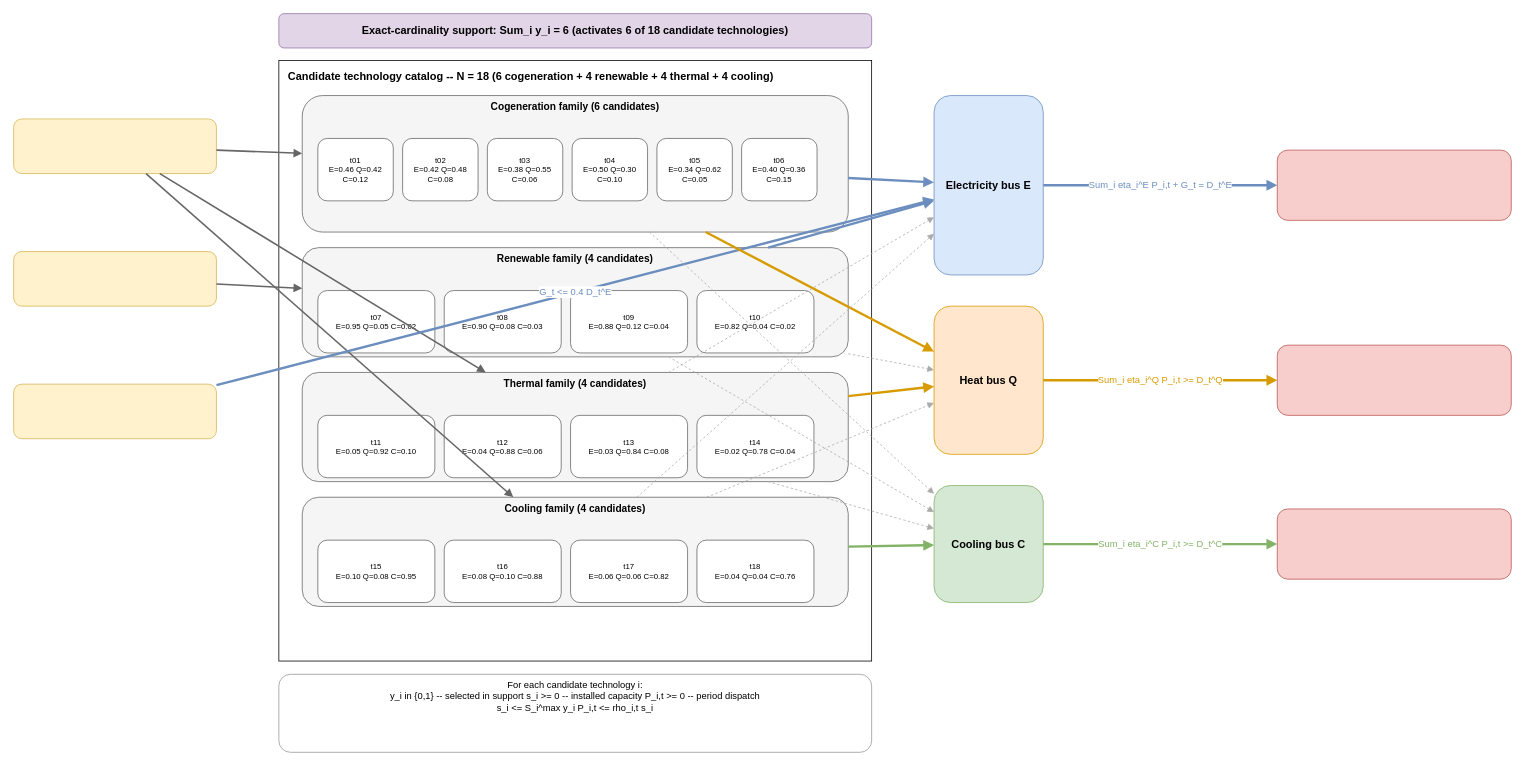
Some shapes in this 1525 by 766 pixel diagram are drawn without their labels. The shapes that lost their labels are listed below. From the top down, each one's centre as x and y in pixels, then its label:
At [114,146]: "Dispatchable primary energy input".
At [1393,184]: "Electricity demand D_t^E".
At [114,278]: "Renewable resource availability (time-varying)".
At [1393,379]: "Heat demand D_t^Q".
At [114,411]: "Grid electricity".
At [1393,543]: "Cooling demand D_t^C".
